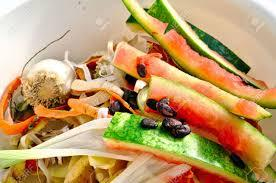Organic: (1, 8, 276, 183)
